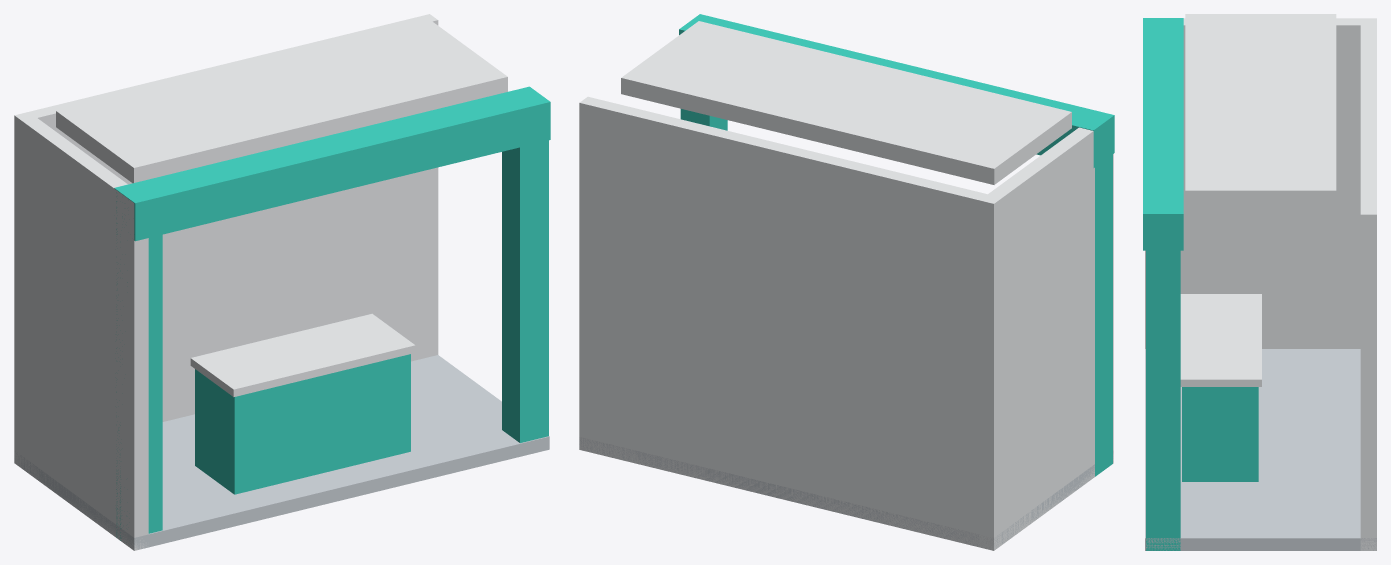
The picture shows the model from 3 angles, left to right: view 1: azimuth 30°, elevation 25°; view 2: azimuth 150°, elevation 25°; view 3: azimuth 270°, elevation 25°; orthographic projection. The views are drawn at different scales.
Visible parts, largest first — view 1: Exhibition Booth Concept; view 2: Exhibition Booth Concept; view 3: Exhibition Booth Concept.
Part boxes in pixels (x1,y1,x2,y2): Exhibition Booth Concept: (14,14,550,550); Exhibition Booth Concept: (579,14,1114,550); Exhibition Booth Concept: (1143,14,1376,550).
Size of the model in its own units: 4 by 3.34 by 2.01.
